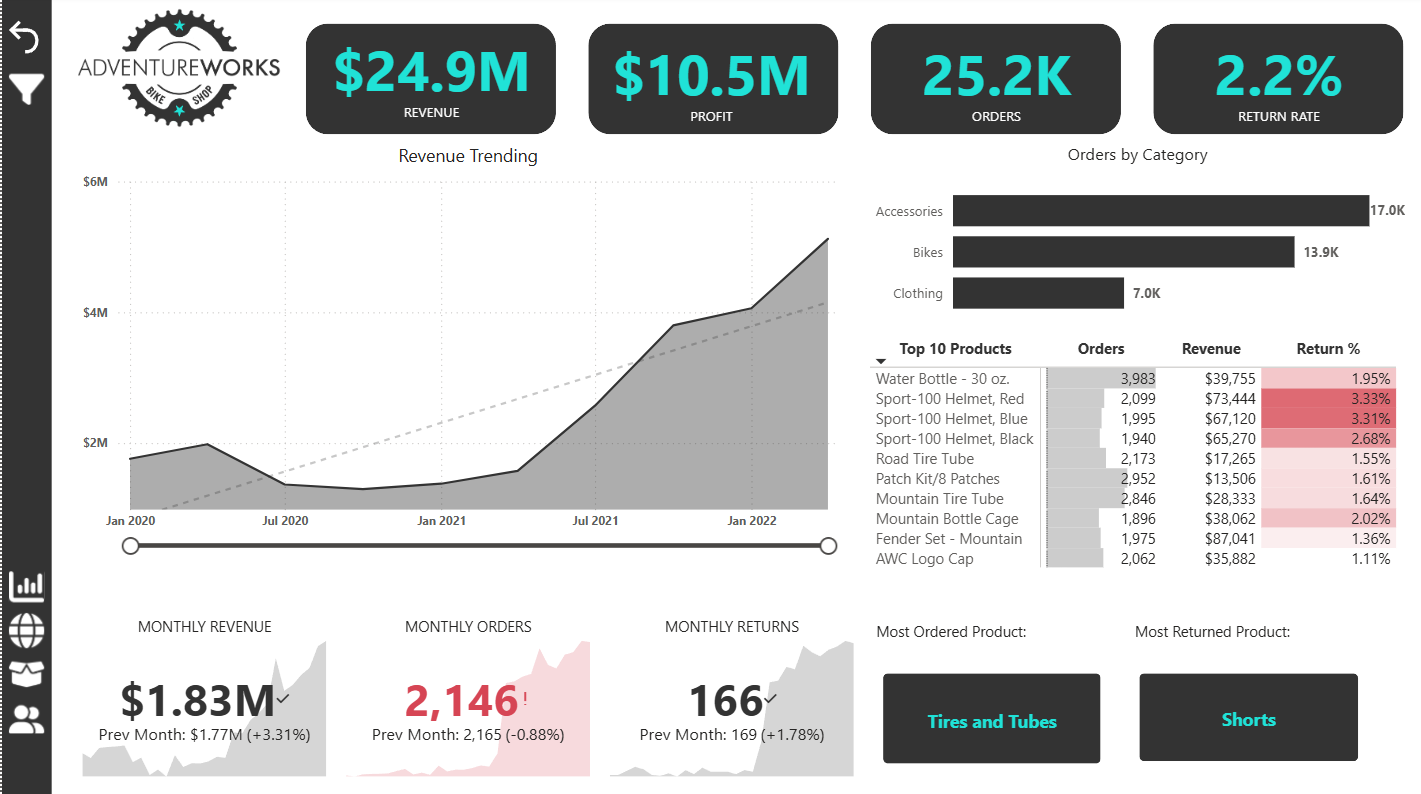

The page's visual inventory and layout, read from the dashboard file:
{"tool":"powerbi","page":{"name":"Exec Dashboard","canvas":[1280,720],"ordinal":0},"visuals":[{"type":"image","title":"AW Logo","box":[48.4,4.3,223.3,120.9],"z":0},{"type":"card","fields":{"Values":["Measure Table.Total Revenue"]},"box":[262.9,12.9,250,120],"z":0,"group":"g2"},{"type":"group","id":"g1","title":"KPI Background","box":[274.6,25.8,989.7,100.3],"z":0,"group":"g3"},{"type":"shape","box":[274.6,26.1,225.7,100],"z":0,"group":"g1"},{"type":"shape","title":"Left Nav Backgroud","box":[0,0,45,720],"z":1000},{"type":"group","id":"g2","title":"KPI Values","box":[262.9,12.9,1014.3,122.9],"z":1000,"group":"g3"},{"type":"card","fields":{"Values":["Measure Table.Total Profit"]},"box":[515.8,15.8,250,120],"z":1000,"group":"g2"},{"type":"shape","box":[529.3,26.1,225.7,100],"z":1000,"group":"g1"},{"type":"group","id":"g3","title":"KPIs","box":[262.9,12.9,1014.3,122.9],"z":2000},{"type":"card","fields":{"Values":["Measure Table.Total Orders"]},"box":[772.9,15.8,250,120],"z":2000,"group":"g2"},{"type":"shape","box":[783.9,26.1,225.7,100],"z":2000,"group":"g1"},{"type":"card","fields":{"Values":["Measure Table.Return Rate"]},"box":[1027.2,15.8,250,120],"z":3000,"group":"g2"},{"type":"shape","box":[1038.6,25.8,225.7,100],"z":3000,"group":"g1"},{"type":"areaChart","title":"Revenue Trending","fields":{"Category":["Calendar Lookup.Year","Calendar Lookup.Start of Quarter","Calendar Lookup.Month"],"Y":["Measure Table.Total Revenue"]},"box":[67.2,131.9,705.3,374.4],"z":3000},{"type":"kpi","title":"MONTHLY REVENUE","fields":{"Goal":["Measure Table.Previous Month Revenue"],"Indicator":["Measure Table.Total Revenue"],"TrendLine":["Calendar Lookup.Start of Month"]},"box":[67.8,558.6,230,150],"z":4000},{"type":"kpi","title":"MONTHLY ORDERS","fields":{"Goal":["Measure Table.Previous Month Orders"],"Indicator":["Measure Table.Total Orders"],"TrendLine":["Calendar Lookup.Start of Month"]},"box":[305.3,558.6,230,150],"z":5000},{"type":"kpi","title":"MONTHLY RETURNS","fields":{"Goal":["Measure Table.Previous Month Returns"],"Indicator":["Measure Table.Total Returns"],"TrendLine":["Calendar Lookup.Start of Month"]},"box":[542.8,558.6,230,150],"z":6000},{"type":"barChart","title":"Orders by Category","fields":{"Category":["Product Categories Lookup.CategoryName"],"Y":["Measure Table.Total Orders"]},"box":[777.5,131.9,492.6,171.7],"z":7000},{"type":"pivotTable","fields":{"Rows":["Product Lookup.ProductName"],"Values":["Measure Table.Total Orders","Measure Table.Total Revenue","Measure Table.Return Rate"]},"box":[777.5,303.5,492.6,220.2],"z":8000},{"type":"cardVisual","fields":{"Data":["Min(Product Subcategories Lookup.SubcategoryName)"]},"box":[778,594.5,230.4,115.2],"z":9000},{"type":"cardVisual","fields":{"Data":["Min(Product Subcategories Lookup.SubcategoryName)"]},"box":[1008.4,594.5,231.8,113.8],"z":10000},{"type":"textbox","box":[783.6,558.9,149.3,35.6],"z":11000},{"type":"textbox","box":[1016.9,558.9,153.6,35.6],"z":12000},{"type":"actionButton","box":[0,17.4,44.8,39.8],"z":13000},{"type":"actionButton","box":[2.5,631.9,44.8,39.8],"z":14000},{"type":"actionButton","box":[2.5,552.3,44.8,39.8],"z":15000},{"type":"actionButton","box":[2.5,592.1,44.8,39.8],"z":16000},{"type":"actionButton","box":[2.5,512.5,44.8,39.8],"z":17000},{"type":"actionButton","box":[2.5,64.7,44.8,39.8],"z":18000}]}

Visuals, with their boxes on the page's 1280x720 design canvas (x1, y1, x2, y2). These are canvas units, not pixel positions in the 1421x794 screenshot, which may show the page scaled, cropped or inside an application window:
"AW Logo" image: bbox=(48, 4, 272, 125)
card - Measure Table.Total Revenue: bbox=(263, 13, 513, 133)
"KPI Background" group: bbox=(275, 26, 1264, 126)
shape: bbox=(275, 26, 500, 126)
"Left Nav Backgroud" shape: bbox=(0, 0, 45, 720)
"KPI Values" group: bbox=(263, 13, 1277, 136)
card - Measure Table.Total Profit: bbox=(516, 16, 766, 136)
shape: bbox=(529, 26, 755, 126)
"KPIs" group: bbox=(263, 13, 1277, 136)
card - Measure Table.Total Orders: bbox=(773, 16, 1023, 136)
shape: bbox=(784, 26, 1010, 126)
card - Measure Table.Return Rate: bbox=(1027, 16, 1277, 136)
shape: bbox=(1039, 26, 1264, 126)
"Revenue Trending" areaChart: bbox=(67, 132, 772, 506)
"MONTHLY REVENUE" kpi: bbox=(68, 559, 298, 709)
"MONTHLY ORDERS" kpi: bbox=(305, 559, 535, 709)
"MONTHLY RETURNS" kpi: bbox=(543, 559, 773, 709)
"Orders by Category" barChart: bbox=(778, 132, 1270, 304)
pivotTable - Product Lookup.ProductName x Measure Table.Total Orders: bbox=(778, 304, 1270, 524)
cardVisual - Min(Product Subcategories Lookup.SubcategoryName): bbox=(778, 594, 1008, 710)
cardVisual - Min(Product Subcategories Lookup.SubcategoryName): bbox=(1008, 594, 1240, 708)
textbox: bbox=(784, 559, 933, 594)
textbox: bbox=(1017, 559, 1170, 594)
actionButton: bbox=(0, 17, 45, 57)
actionButton: bbox=(2, 632, 47, 672)
actionButton: bbox=(2, 552, 47, 592)
actionButton: bbox=(2, 592, 47, 632)
actionButton: bbox=(2, 512, 47, 552)
actionButton: bbox=(2, 65, 47, 104)
